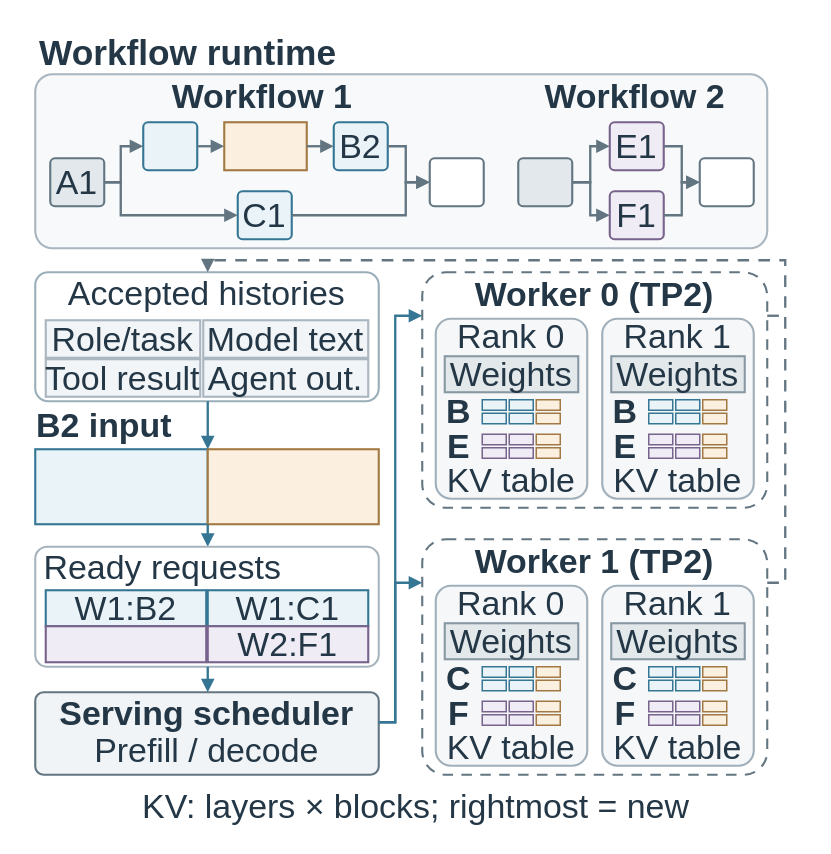
The diagram is 831 pixels wide and 854 high, and some of its shapes have lost their labels. The centre of each missing label's shape, as x and y in pixels:
A2: [456,181]
B1: [169,145]
D1: [544,181]
D2: [726,181]
New tokens prefill: [292,486]
Prefix reuse KV: [120,486]
Tool: [264,145]
W2:E1: [125,643]
